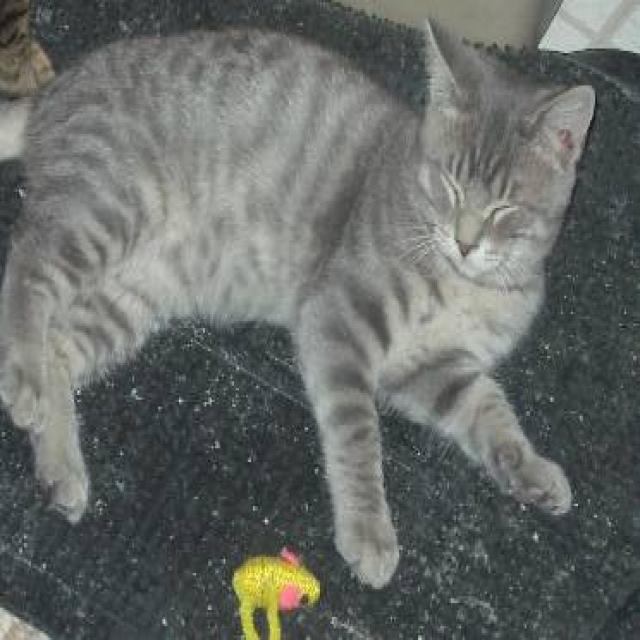cat: (0, 16, 595, 589)
